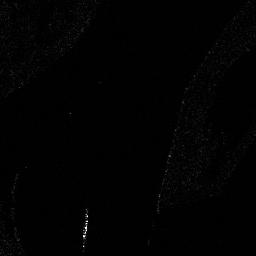ship: (82, 207, 89, 251)
